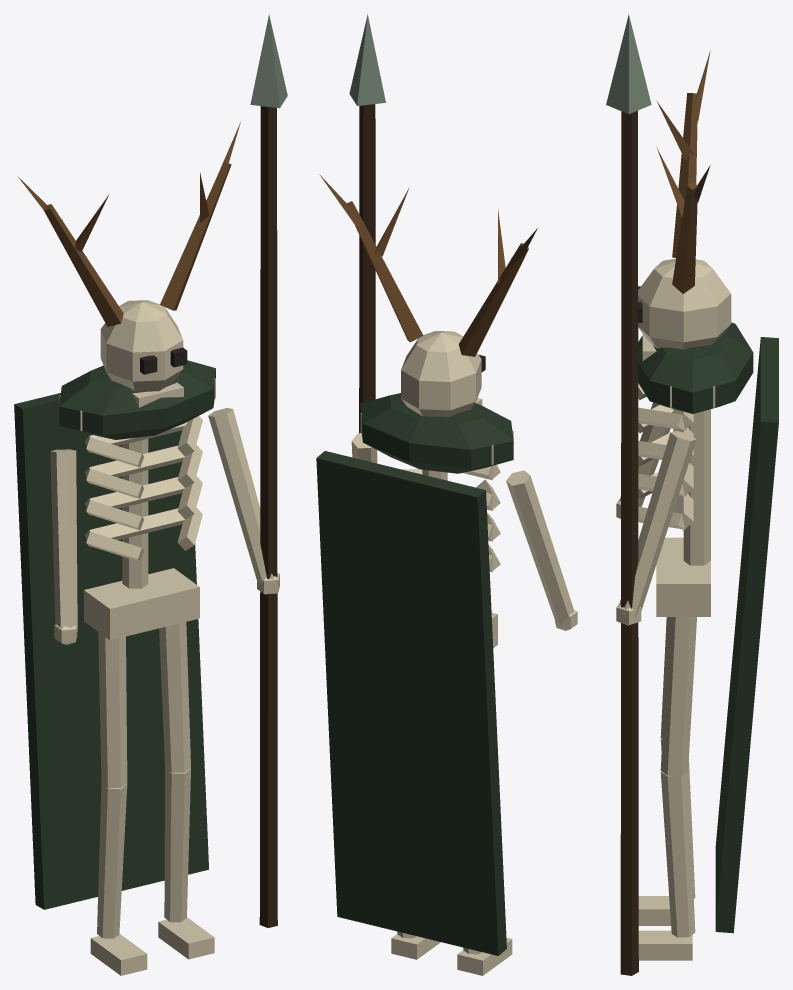
Rendered from totenjaeger.glb.
3 views of the same model, side by side, from view 1: azimuth 30°, elevation 25°; view 2: azimuth 150°, elevation 25°; view 3: azimuth 270°, elevation 25° (orthographic). The views are drawn at different scales.
Size of the model in its own units: 0.62 by 2.36 by 0.3795.
1 material, 1 textured.
